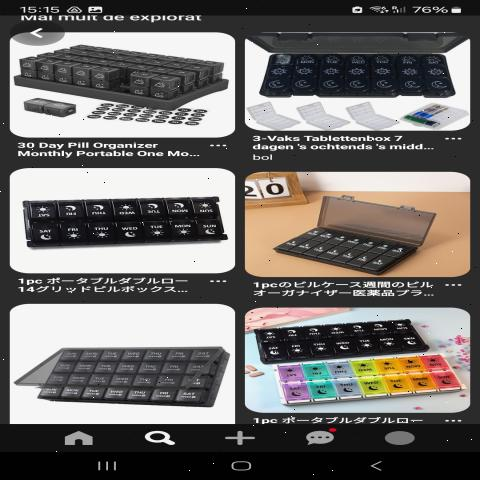PillBox: (18, 333, 240, 422), (18, 186, 229, 255), (276, 221, 437, 272), (246, 322, 446, 354)
